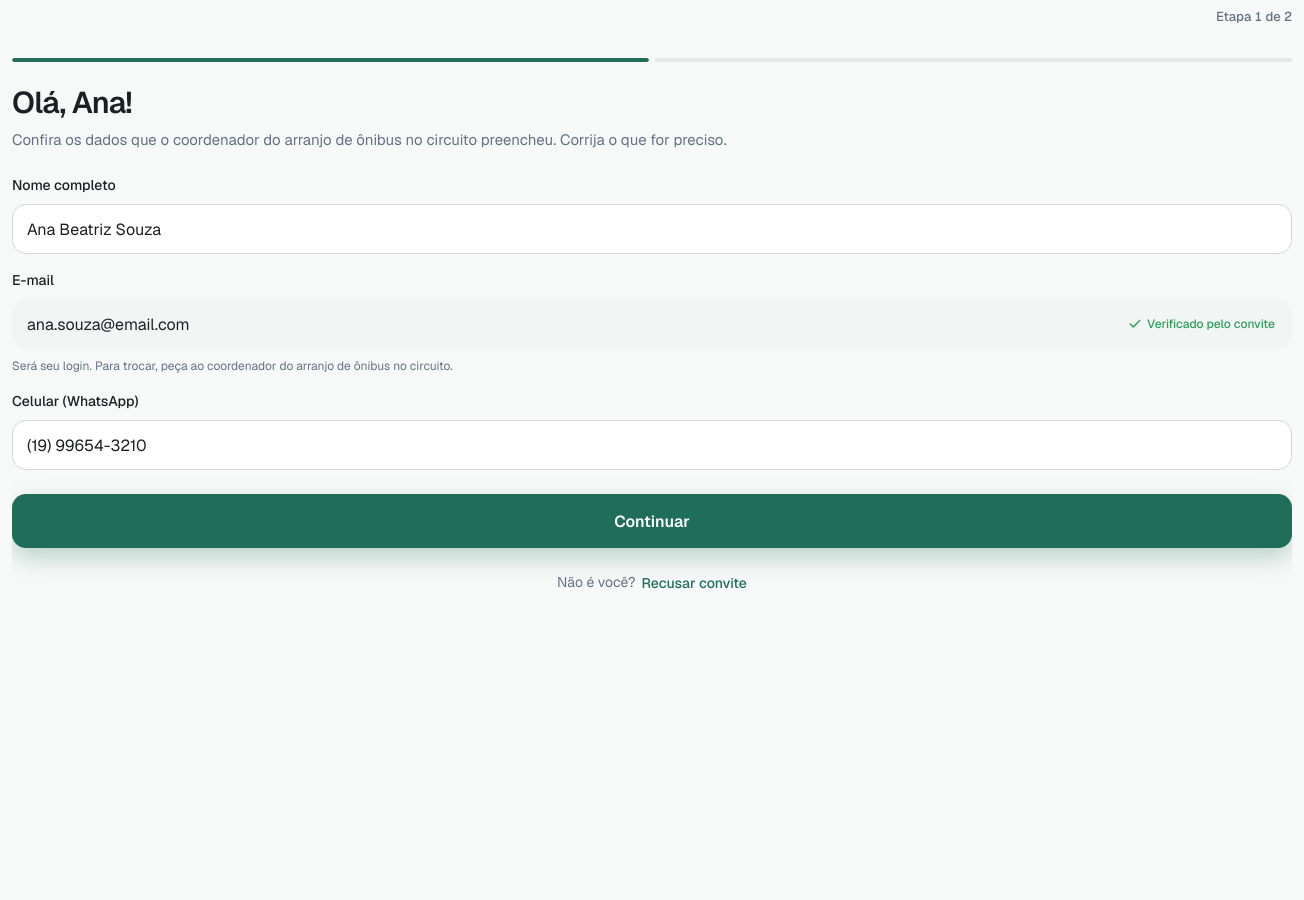
it: AcceptInvitationFlow — etapa de dados › não avança com celular incompleto
Replace the text in the field labelled "Celular (WhatsApp)" with "199965" at [655, 445], box 27,421 -> 1283,469
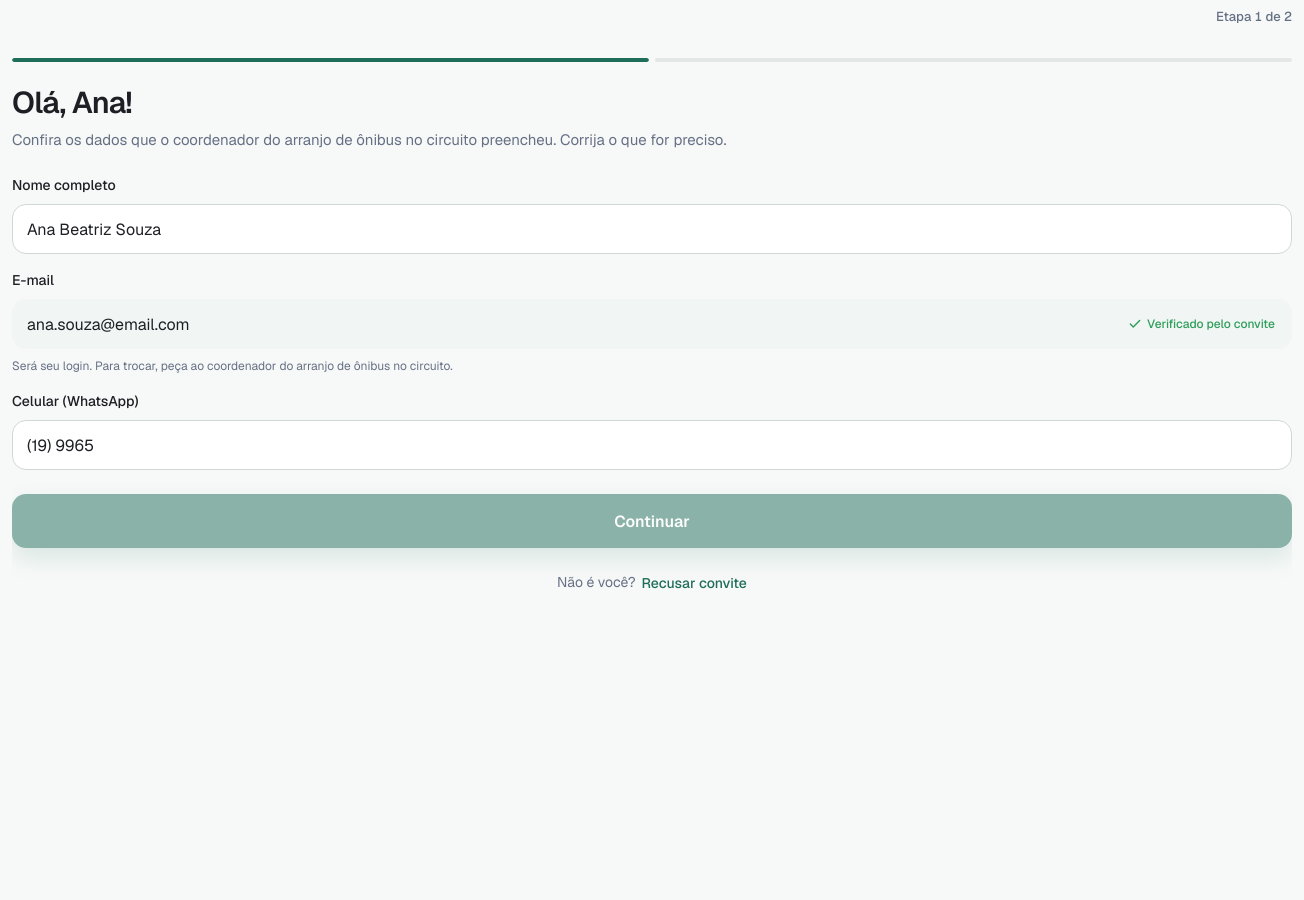
Click the button "Continuar".
click(652, 521)  # box 12,494 -> 1292,548
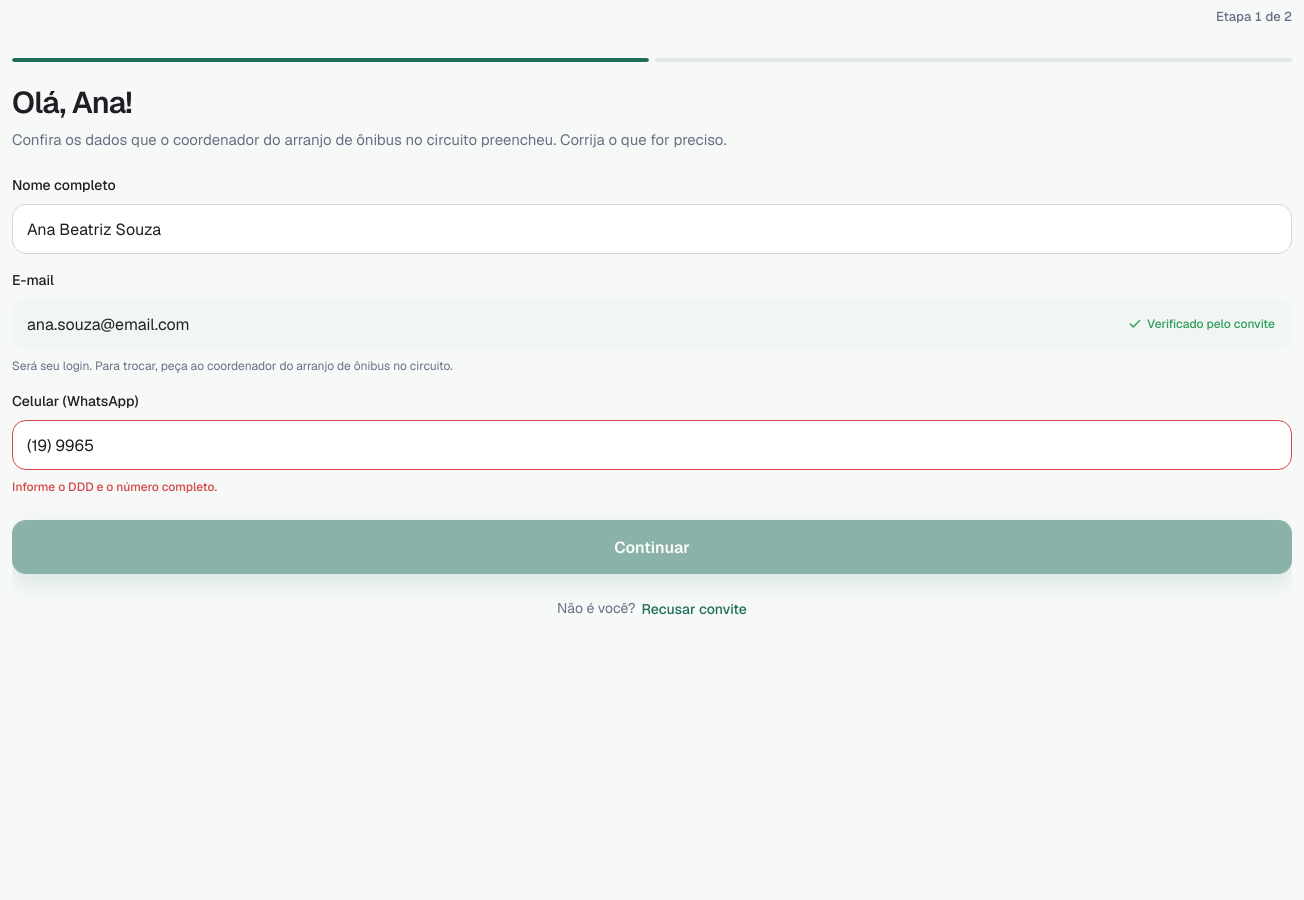
Expected: the text "Informe o DDD e o número completo." is shown, 12,479 -> 217,495
